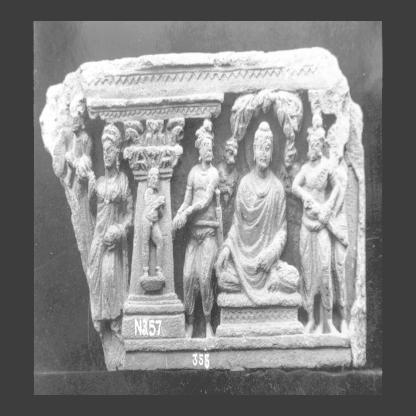buddha-sitting: (216, 121, 299, 305)
